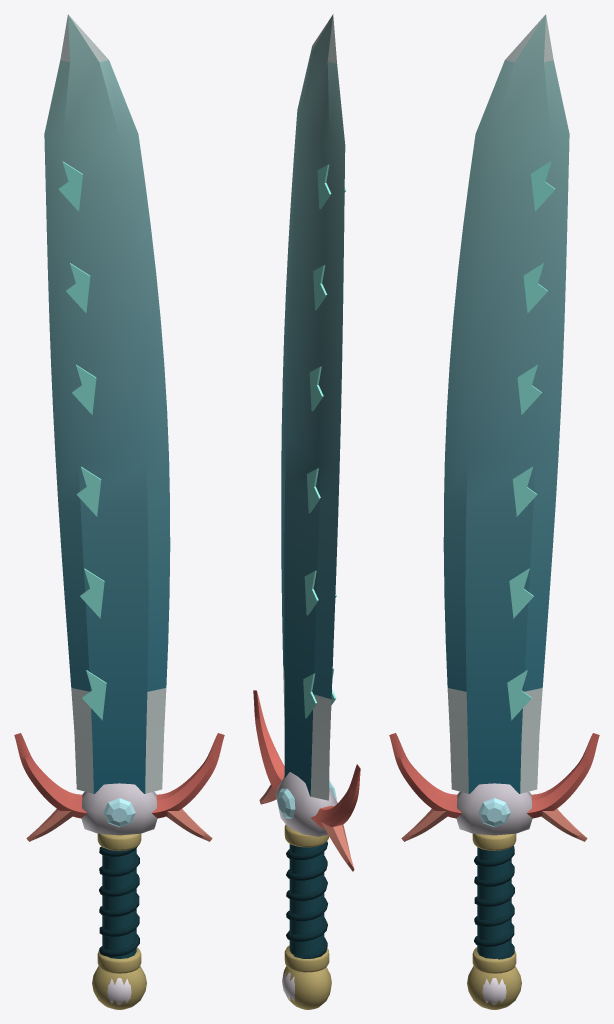
The model's file is sword_tidal.fbx.
The picture shows the model from 3 angles, left to right: view 1: azimuth 90°, elevation 25°; view 2: azimuth 210°, elevation 25°; view 3: azimuth 270°, elevation 25°; orthographic projection.
Visible parts, largest first — view 1: sword_tidal; view 2: sword_tidal; view 3: sword_tidal.
Boxes of the visible parts, x1,y1,x2,y2 form: sword_tidal: (14, 14, 224, 1009); sword_tidal: (253, 14, 360, 1009); sword_tidal: (389, 14, 599, 1009).
Size of the model in its own units: 0.0555 by 1.08 by 0.2066.
